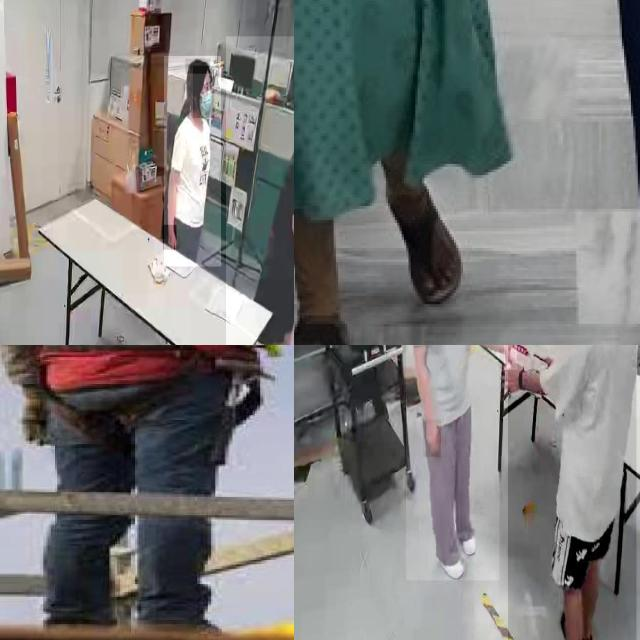Harness: (36, 345, 261, 463)
Sandals: (294, 279, 352, 345)
face_mask: (193, 66, 215, 118)
hand_noglove: (502, 361, 524, 396), (423, 420, 441, 458), (163, 224, 177, 250), (504, 345, 517, 369)
head_nohelmet: (185, 59, 211, 74)
person: (508, 345, 637, 640), (406, 345, 500, 581), (226, 36, 294, 345), (164, 56, 222, 267)
shoes: (430, 537, 464, 582), (559, 602, 597, 640)
